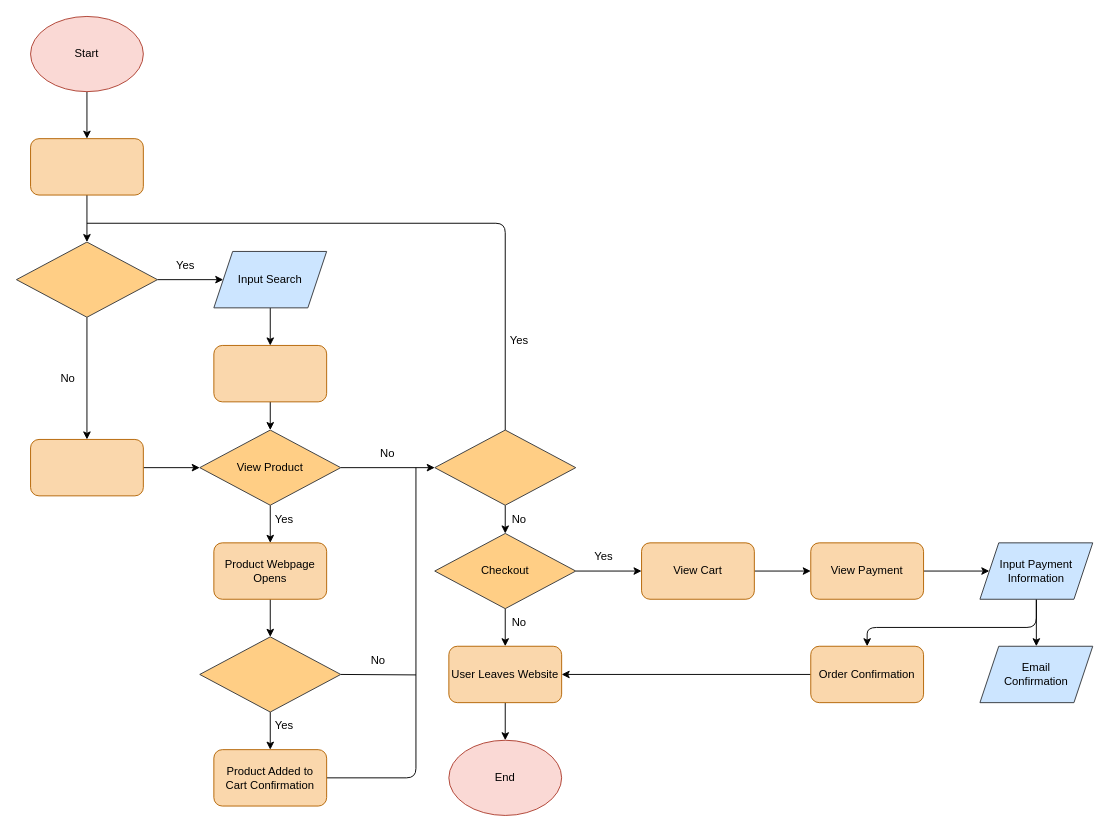
This 1109x832 diagram has some shape labels left out. Each missing label, with the centre of its shape:
"Add Product to Cart" goes at (x=270, y=674).
"Continue Shopping" goes at (x=505, y=467).
"User Enters Website" goes at (x=86, y=166).
"User Explores Home Page Products" goes at (x=86, y=467).
"User Explores Products from Search" goes at (x=270, y=373).
"User Searches for a Product" goes at (x=86, y=279).
